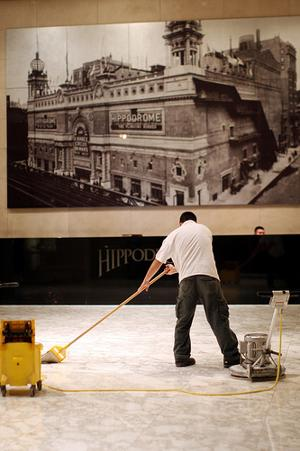person: (139, 214, 245, 368)
